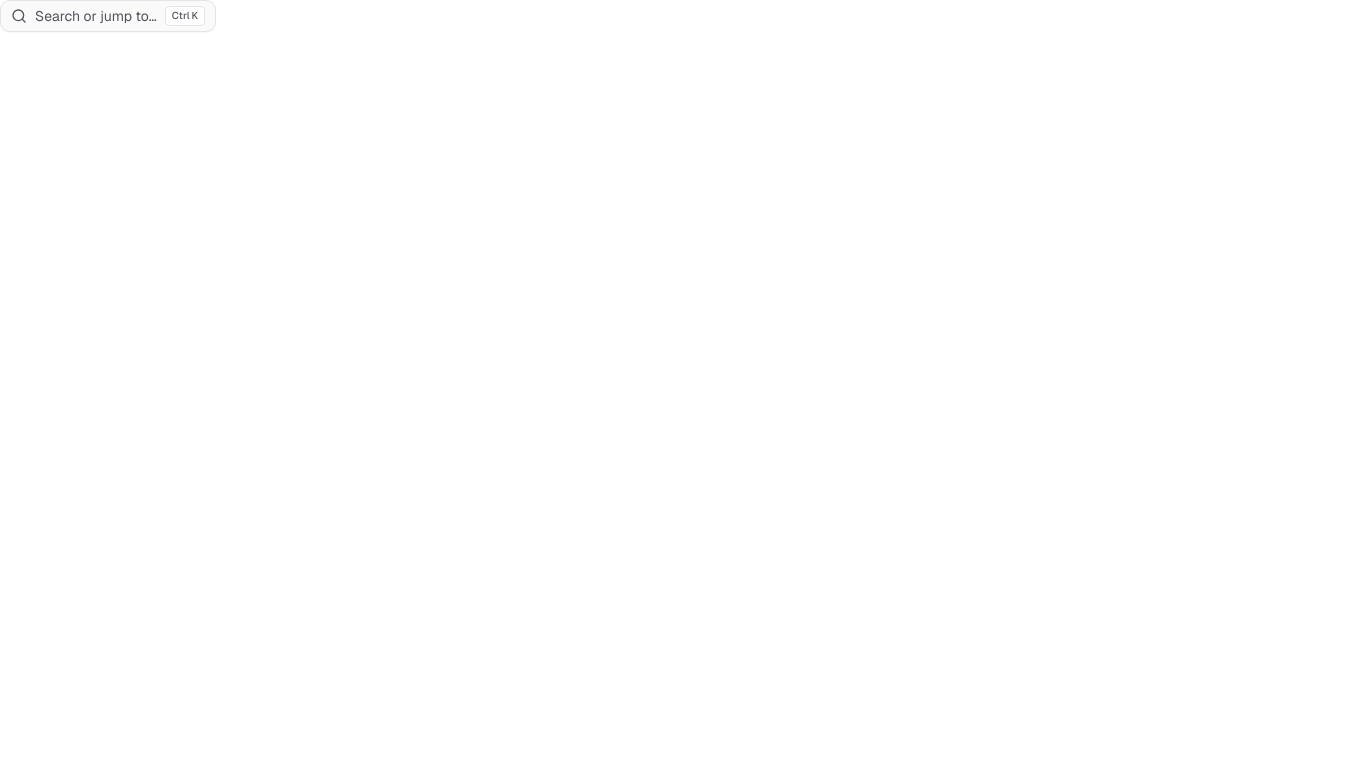
it: CommandMenu › opens with Ctrl+K and jumps to a page
Type keys "{Control>}k{/Control}"
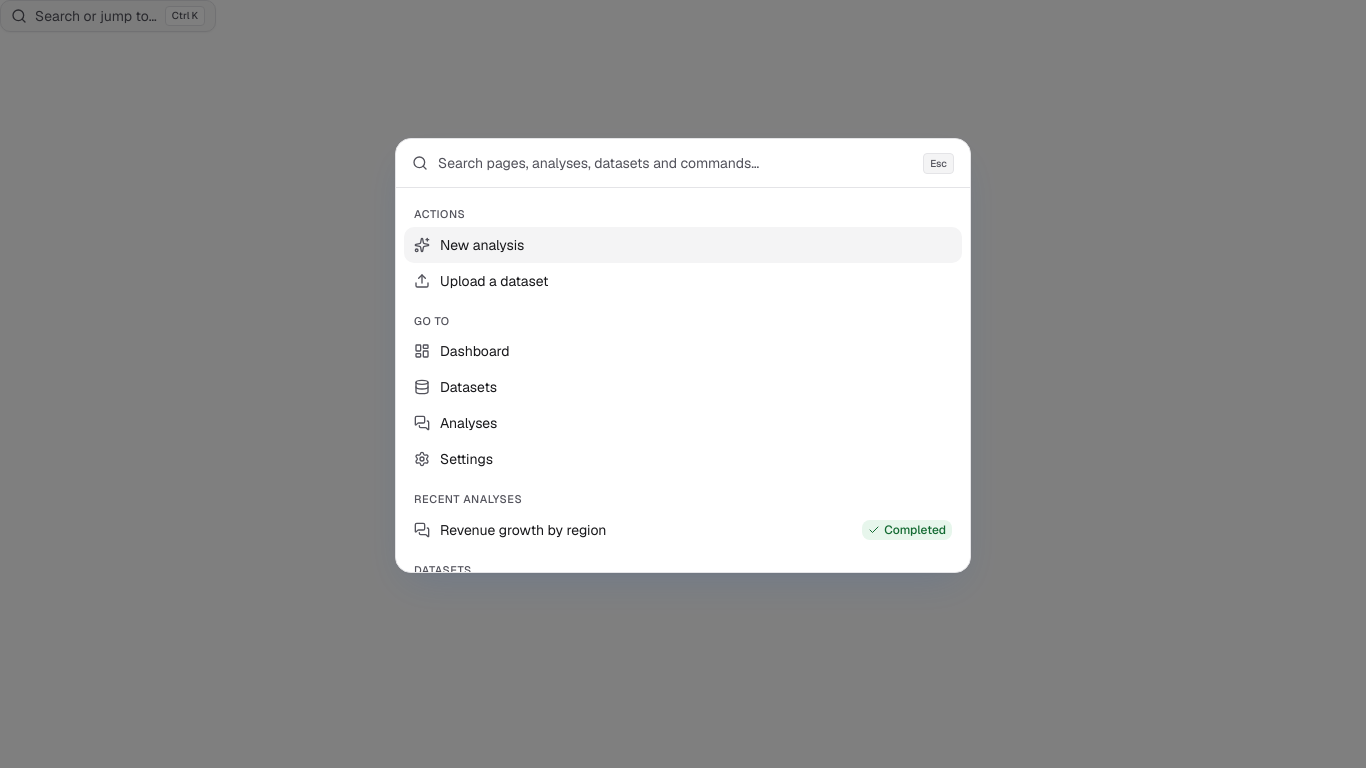
A partial name ranks the page whose name starts with it first ("set" is also in "dataset").
Type "set" into the dropdown. click: (676, 163)
box: left=438, top=139, right=913, bottom=187
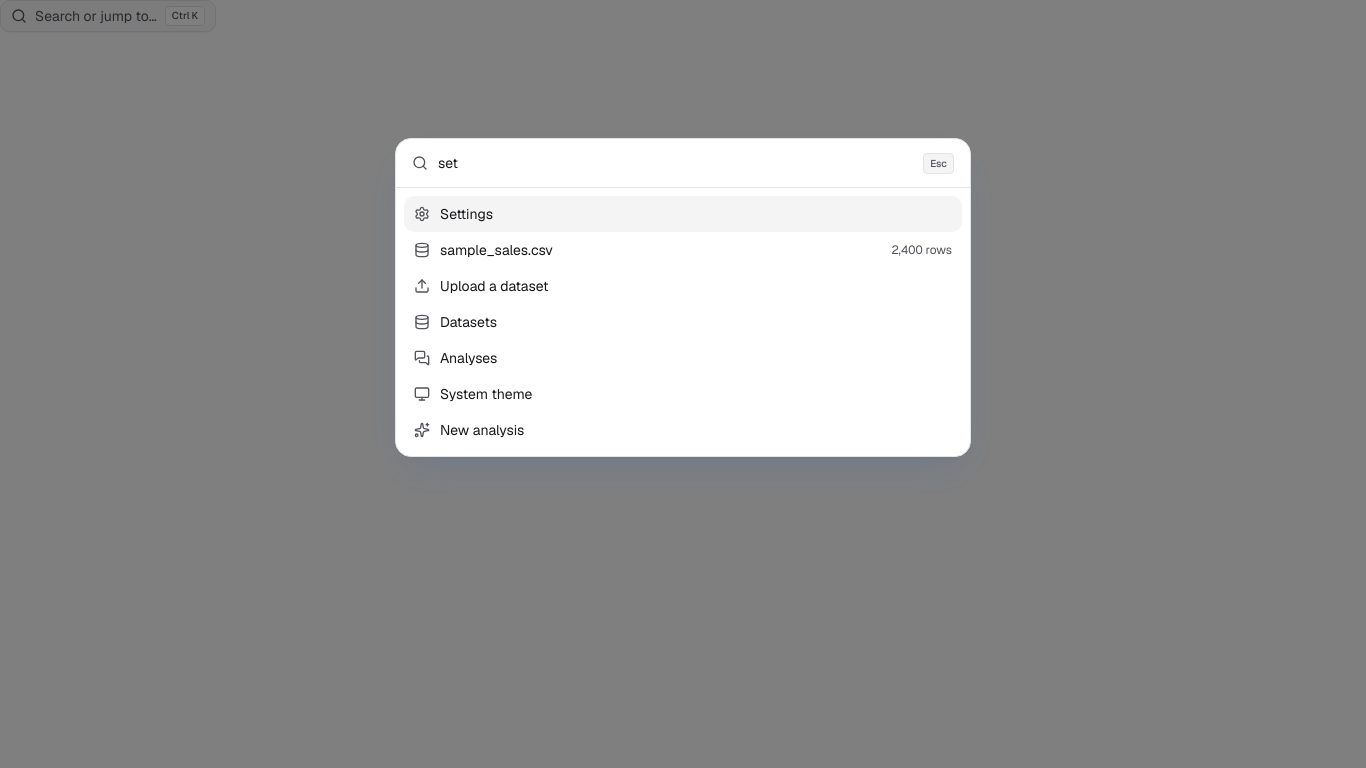
Expected: the option "Settings" is shown, left=404, top=196, right=962, bottom=232
Press Enter
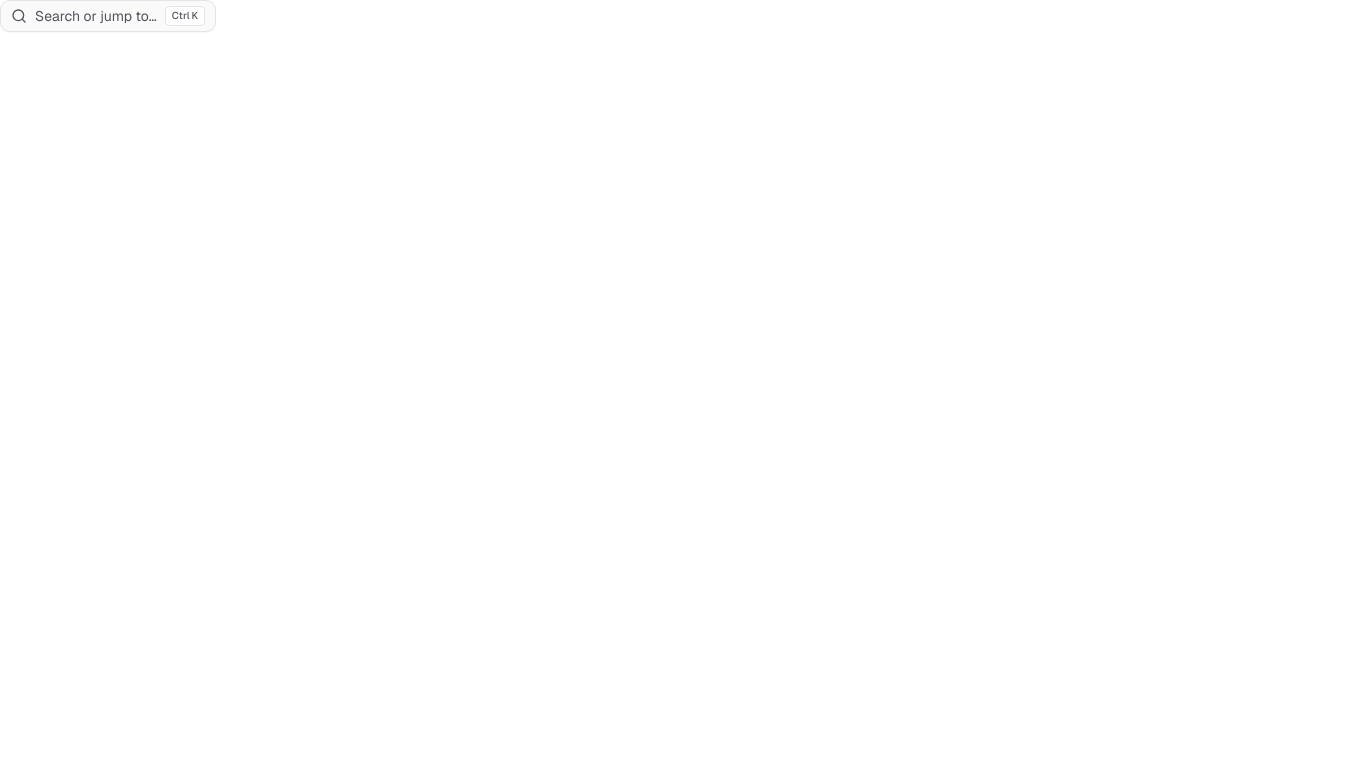
Expected: the dialog is gone
